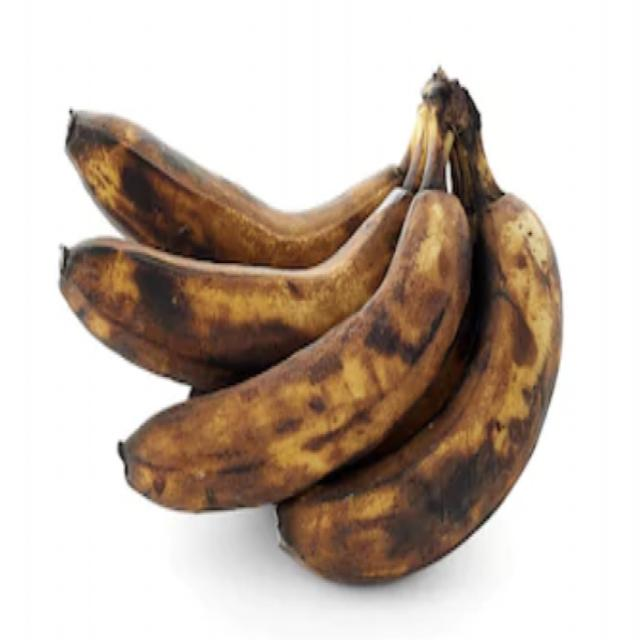rotten-banana: (108, 288, 485, 507), (364, 205, 568, 604), (64, 229, 403, 362), (70, 107, 373, 226)
